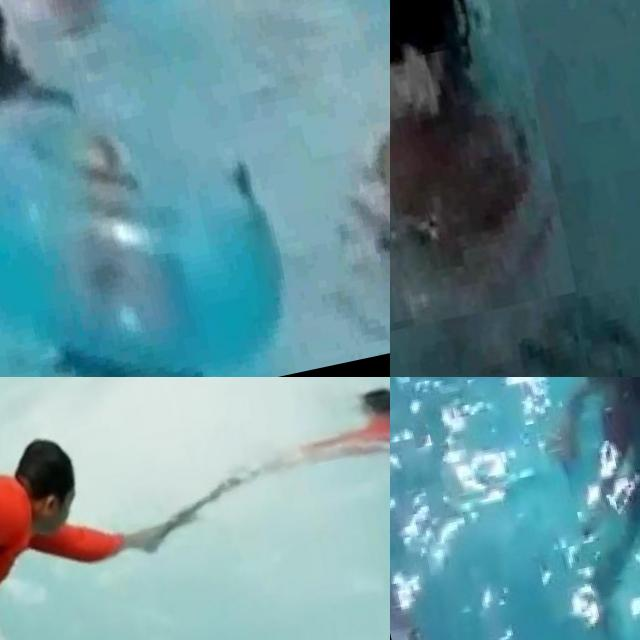drowning: (390, 0, 576, 333), (515, 377, 640, 581), (0, 0, 87, 133), (329, 377, 390, 498)
out of water: (0, 408, 132, 640)
swimming: (314, 0, 390, 257)
